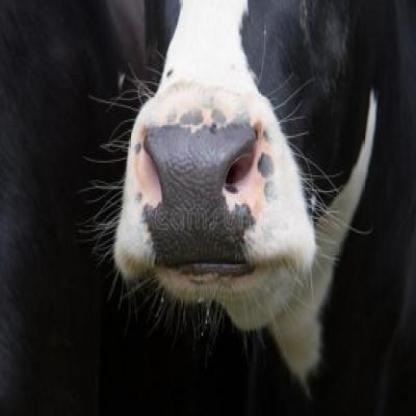lower: (175, 280, 247, 294)
mouth: (118, 95, 319, 322)
upper: (176, 165, 206, 200)
